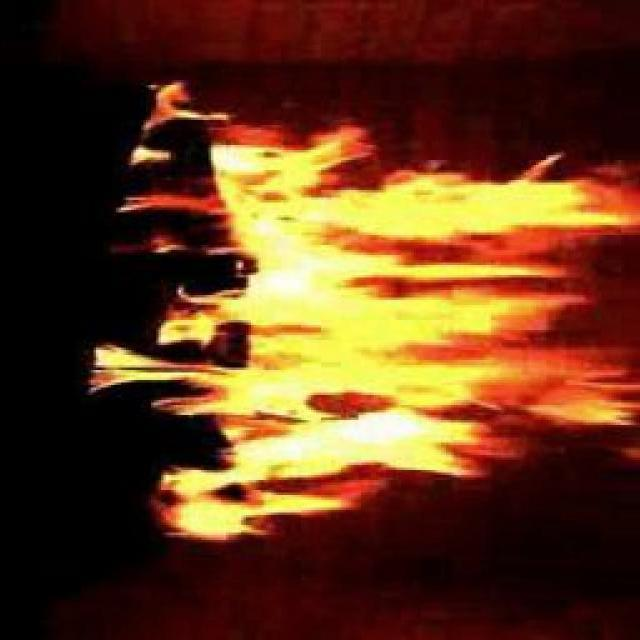Fire: (178, 142, 580, 538)
